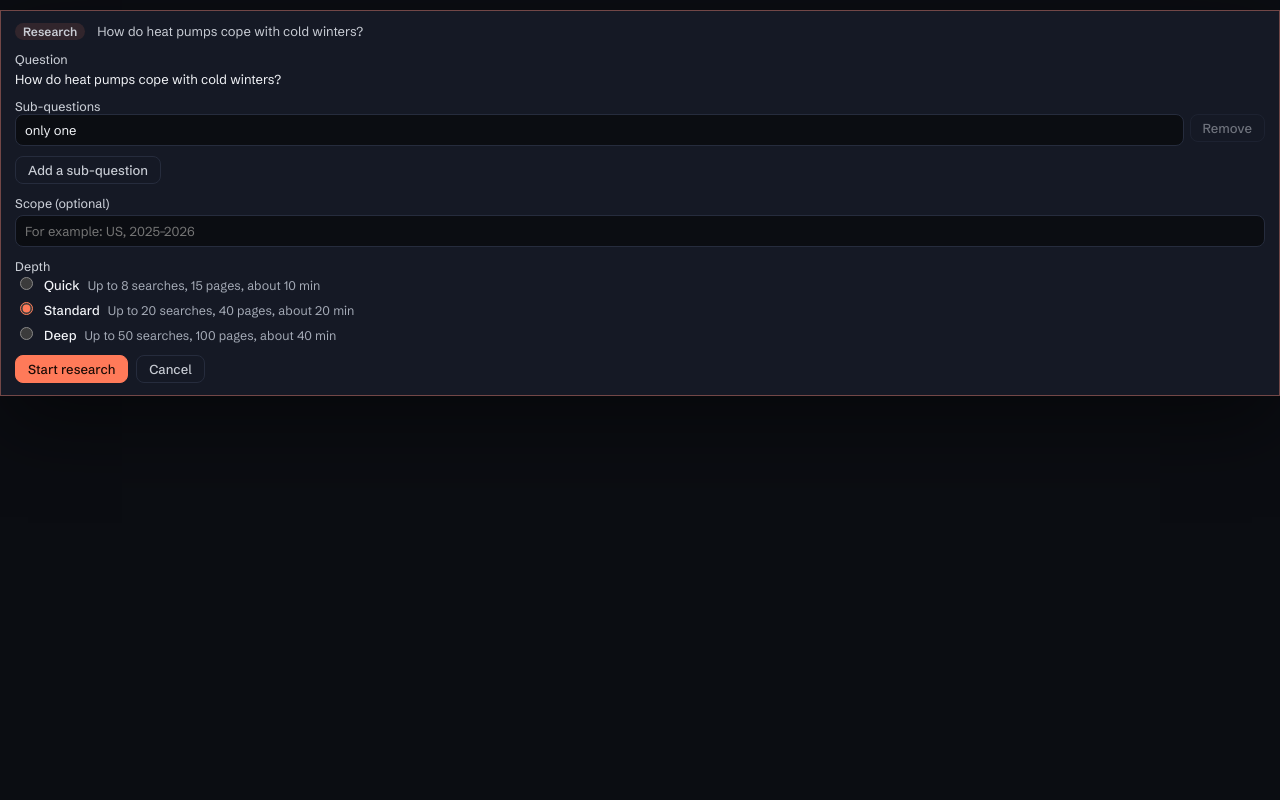
Test: ResearchRunCard › keeps between one and six sub-questions
Expected: the form named "Research brief" is shown, [15, 52, 1265, 383]
Expected: the button with aria-label "Remove sub-question 1" is disabled, [1190, 114, 1265, 142]
Click the button "Add a sub-question": x=88, y=170 [15, 156, 161, 184]
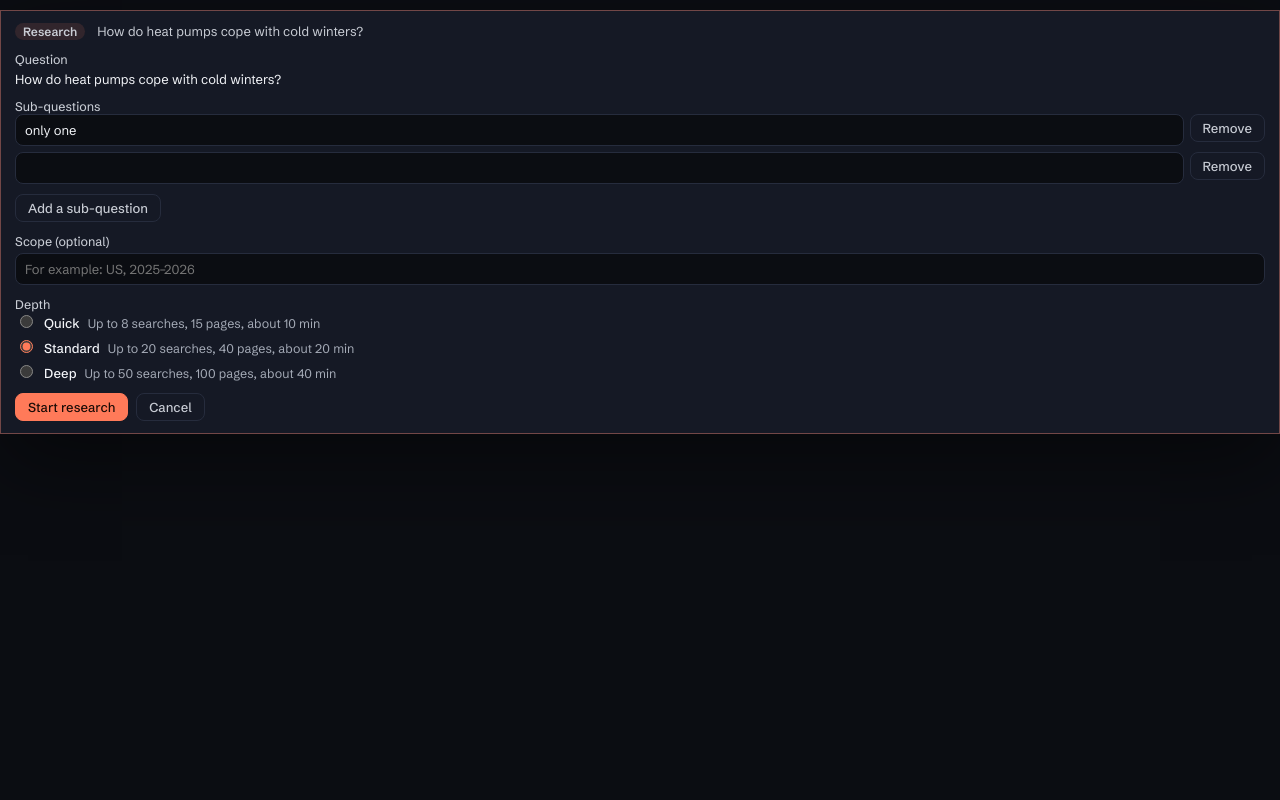
Click the button "Add a sub-question": x=88, y=208 [15, 194, 161, 222]
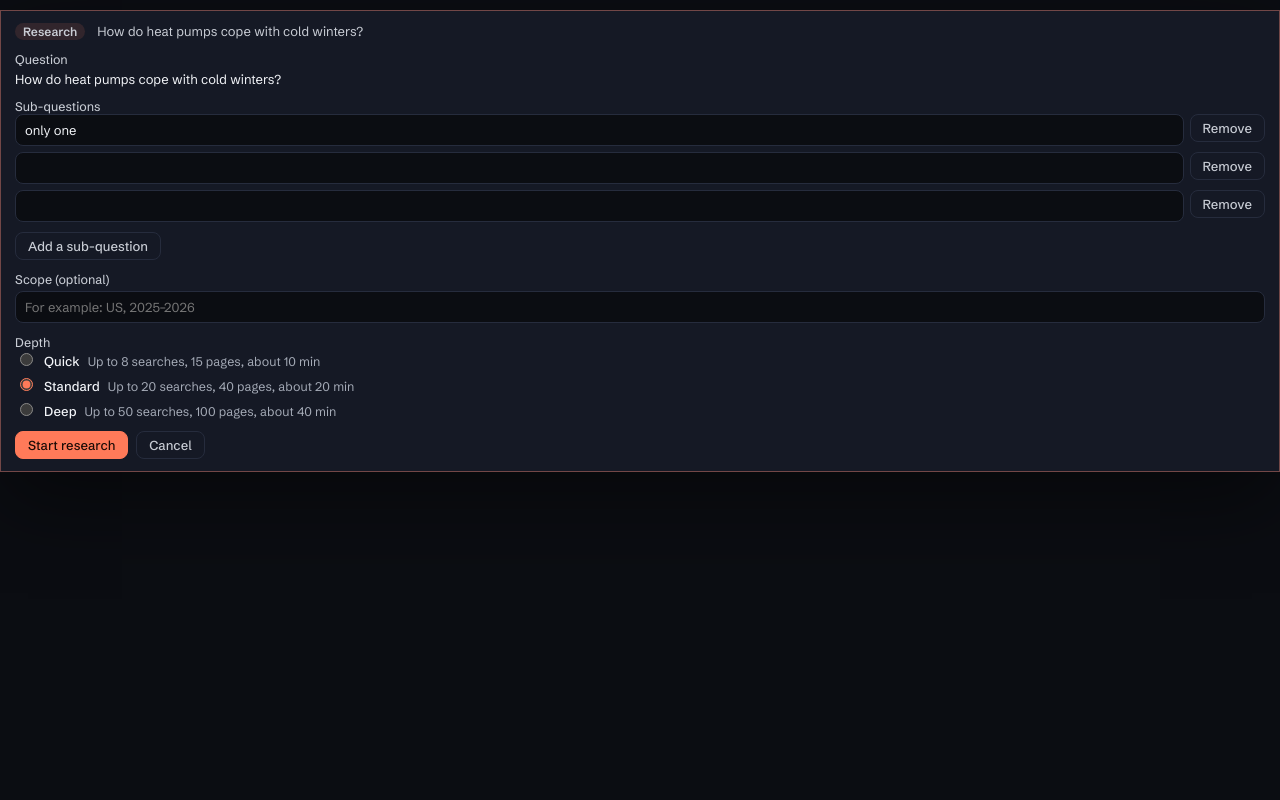
Click the button "Add a sub-question": x=88, y=246 [15, 232, 161, 260]
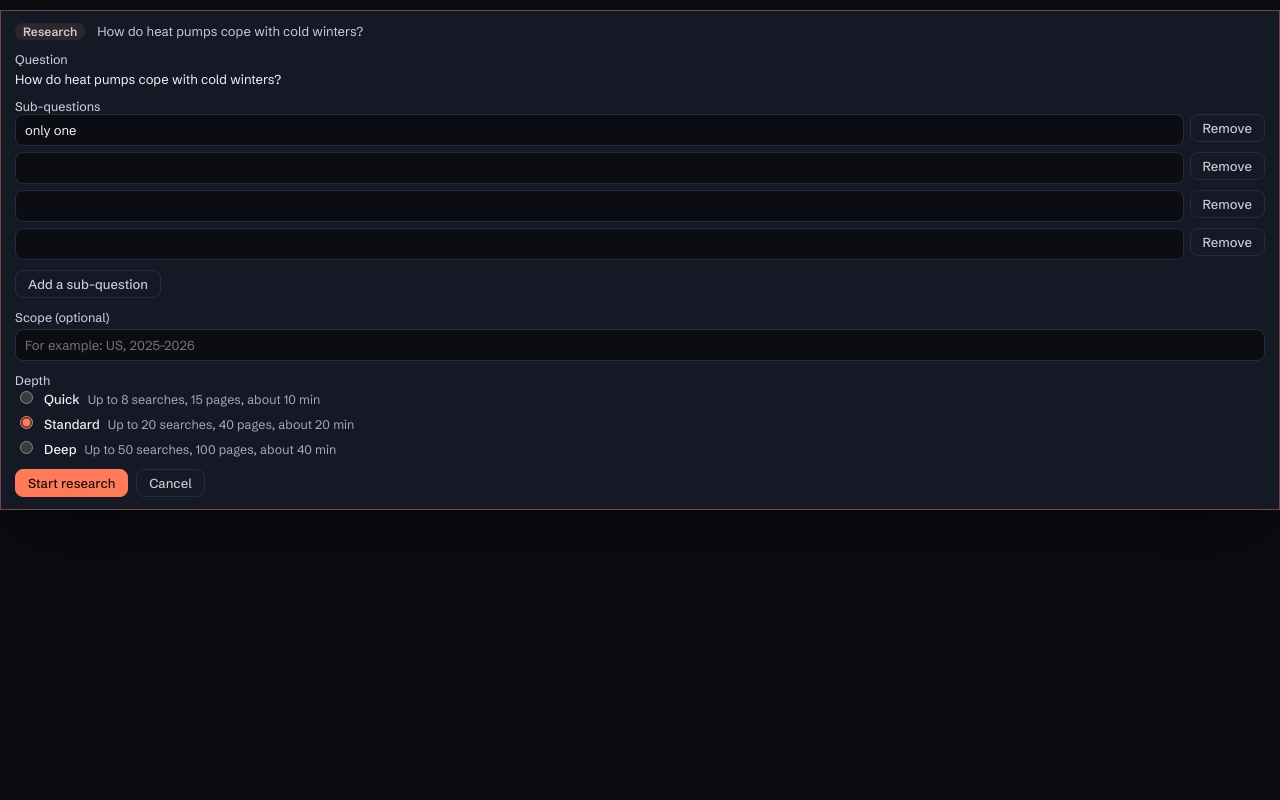
Click the button "Add a sub-question": x=88, y=284 [15, 270, 161, 298]
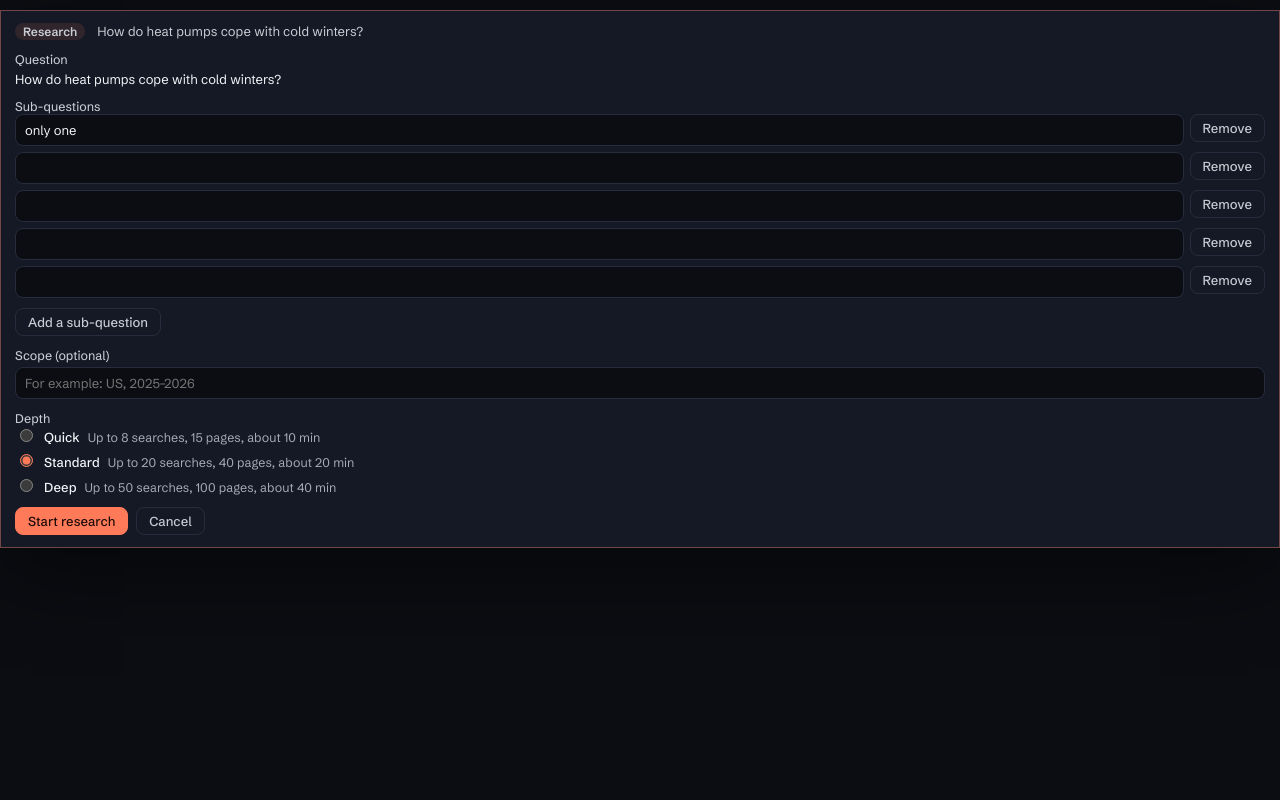
Click the button "Add a sub-question": x=88, y=322 [15, 308, 161, 336]
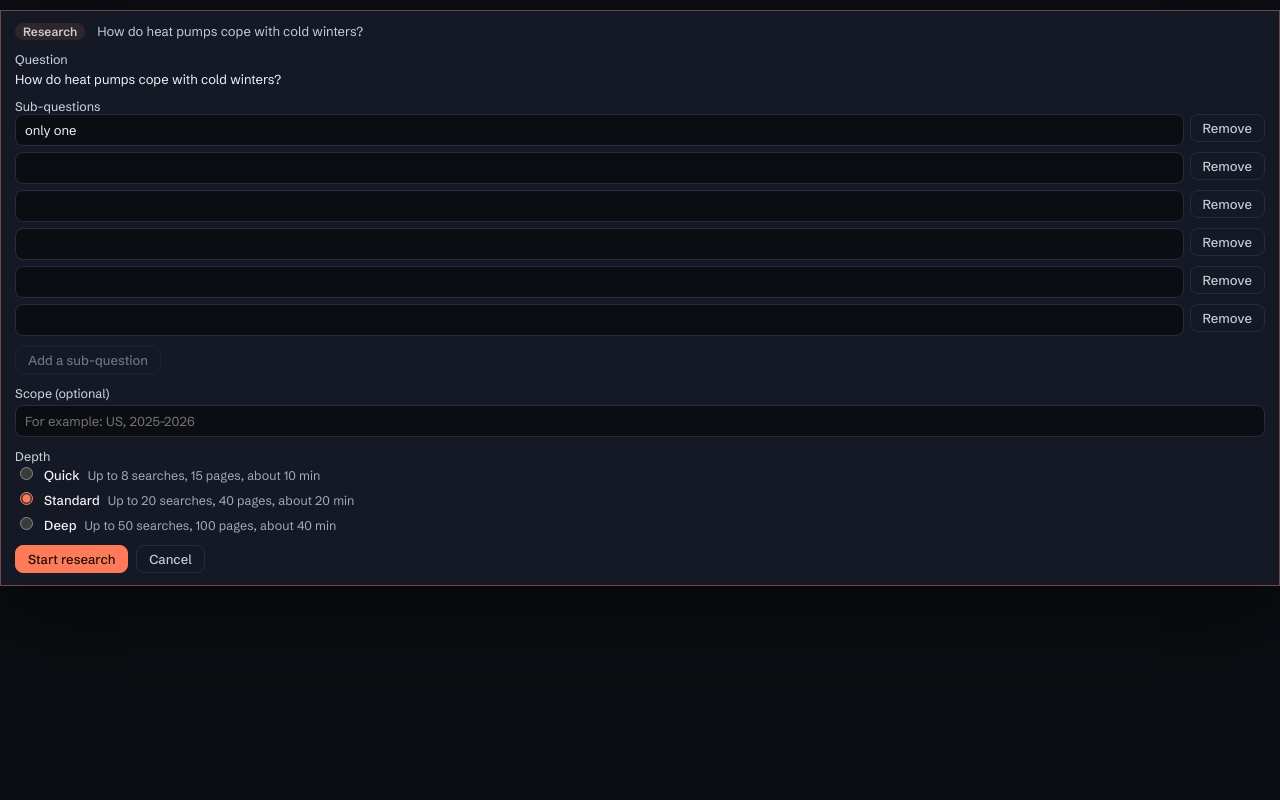
Result: the number of fields named "Sub-question 1" is 6
Result: the button "Add a sub-question" is disabled at [15, 346, 161, 374]
Clear the field named "Sub-question 1": x=599, y=130 [15, 114, 1184, 146]
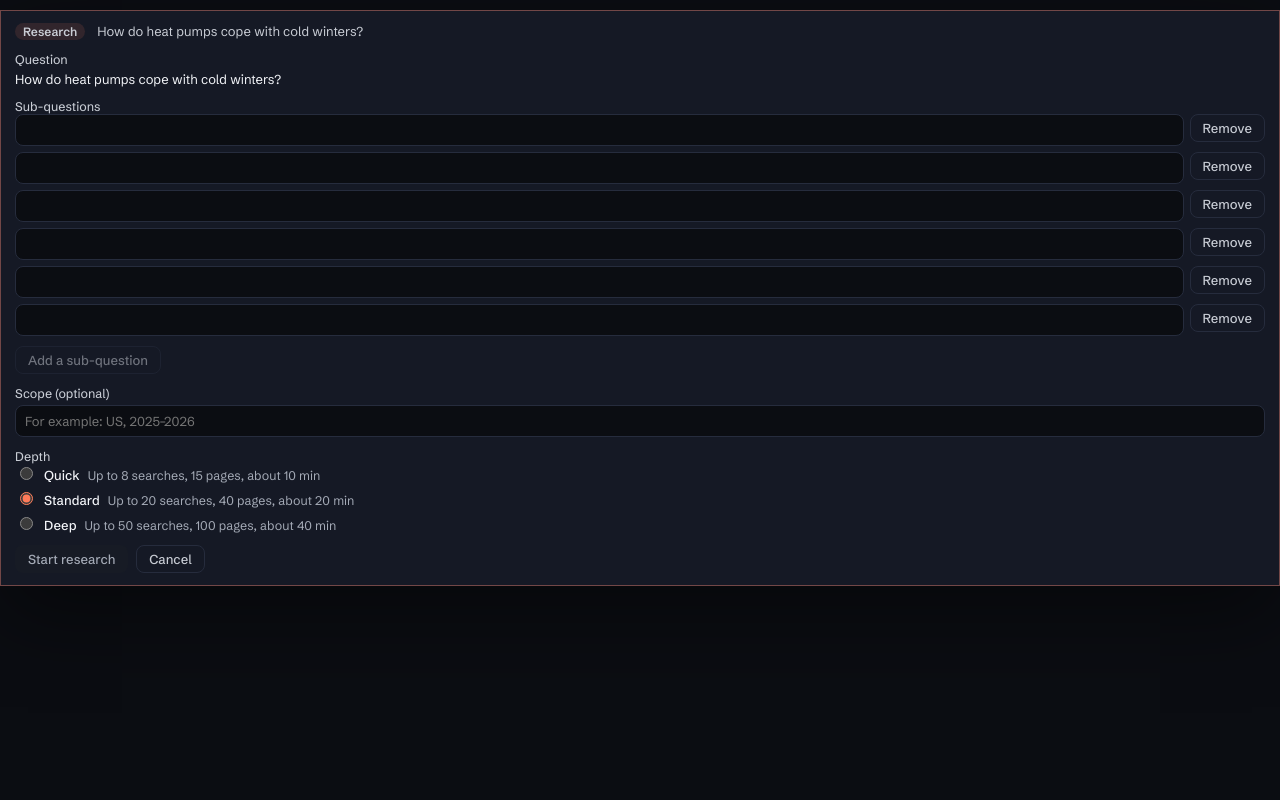
Result: the field named "Sub-question 2" is empty at [15, 152, 1184, 184]
Result: the button "Start research" is disabled at [15, 545, 128, 573]
